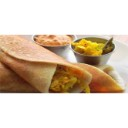dosa: (1, 35, 118, 94)
